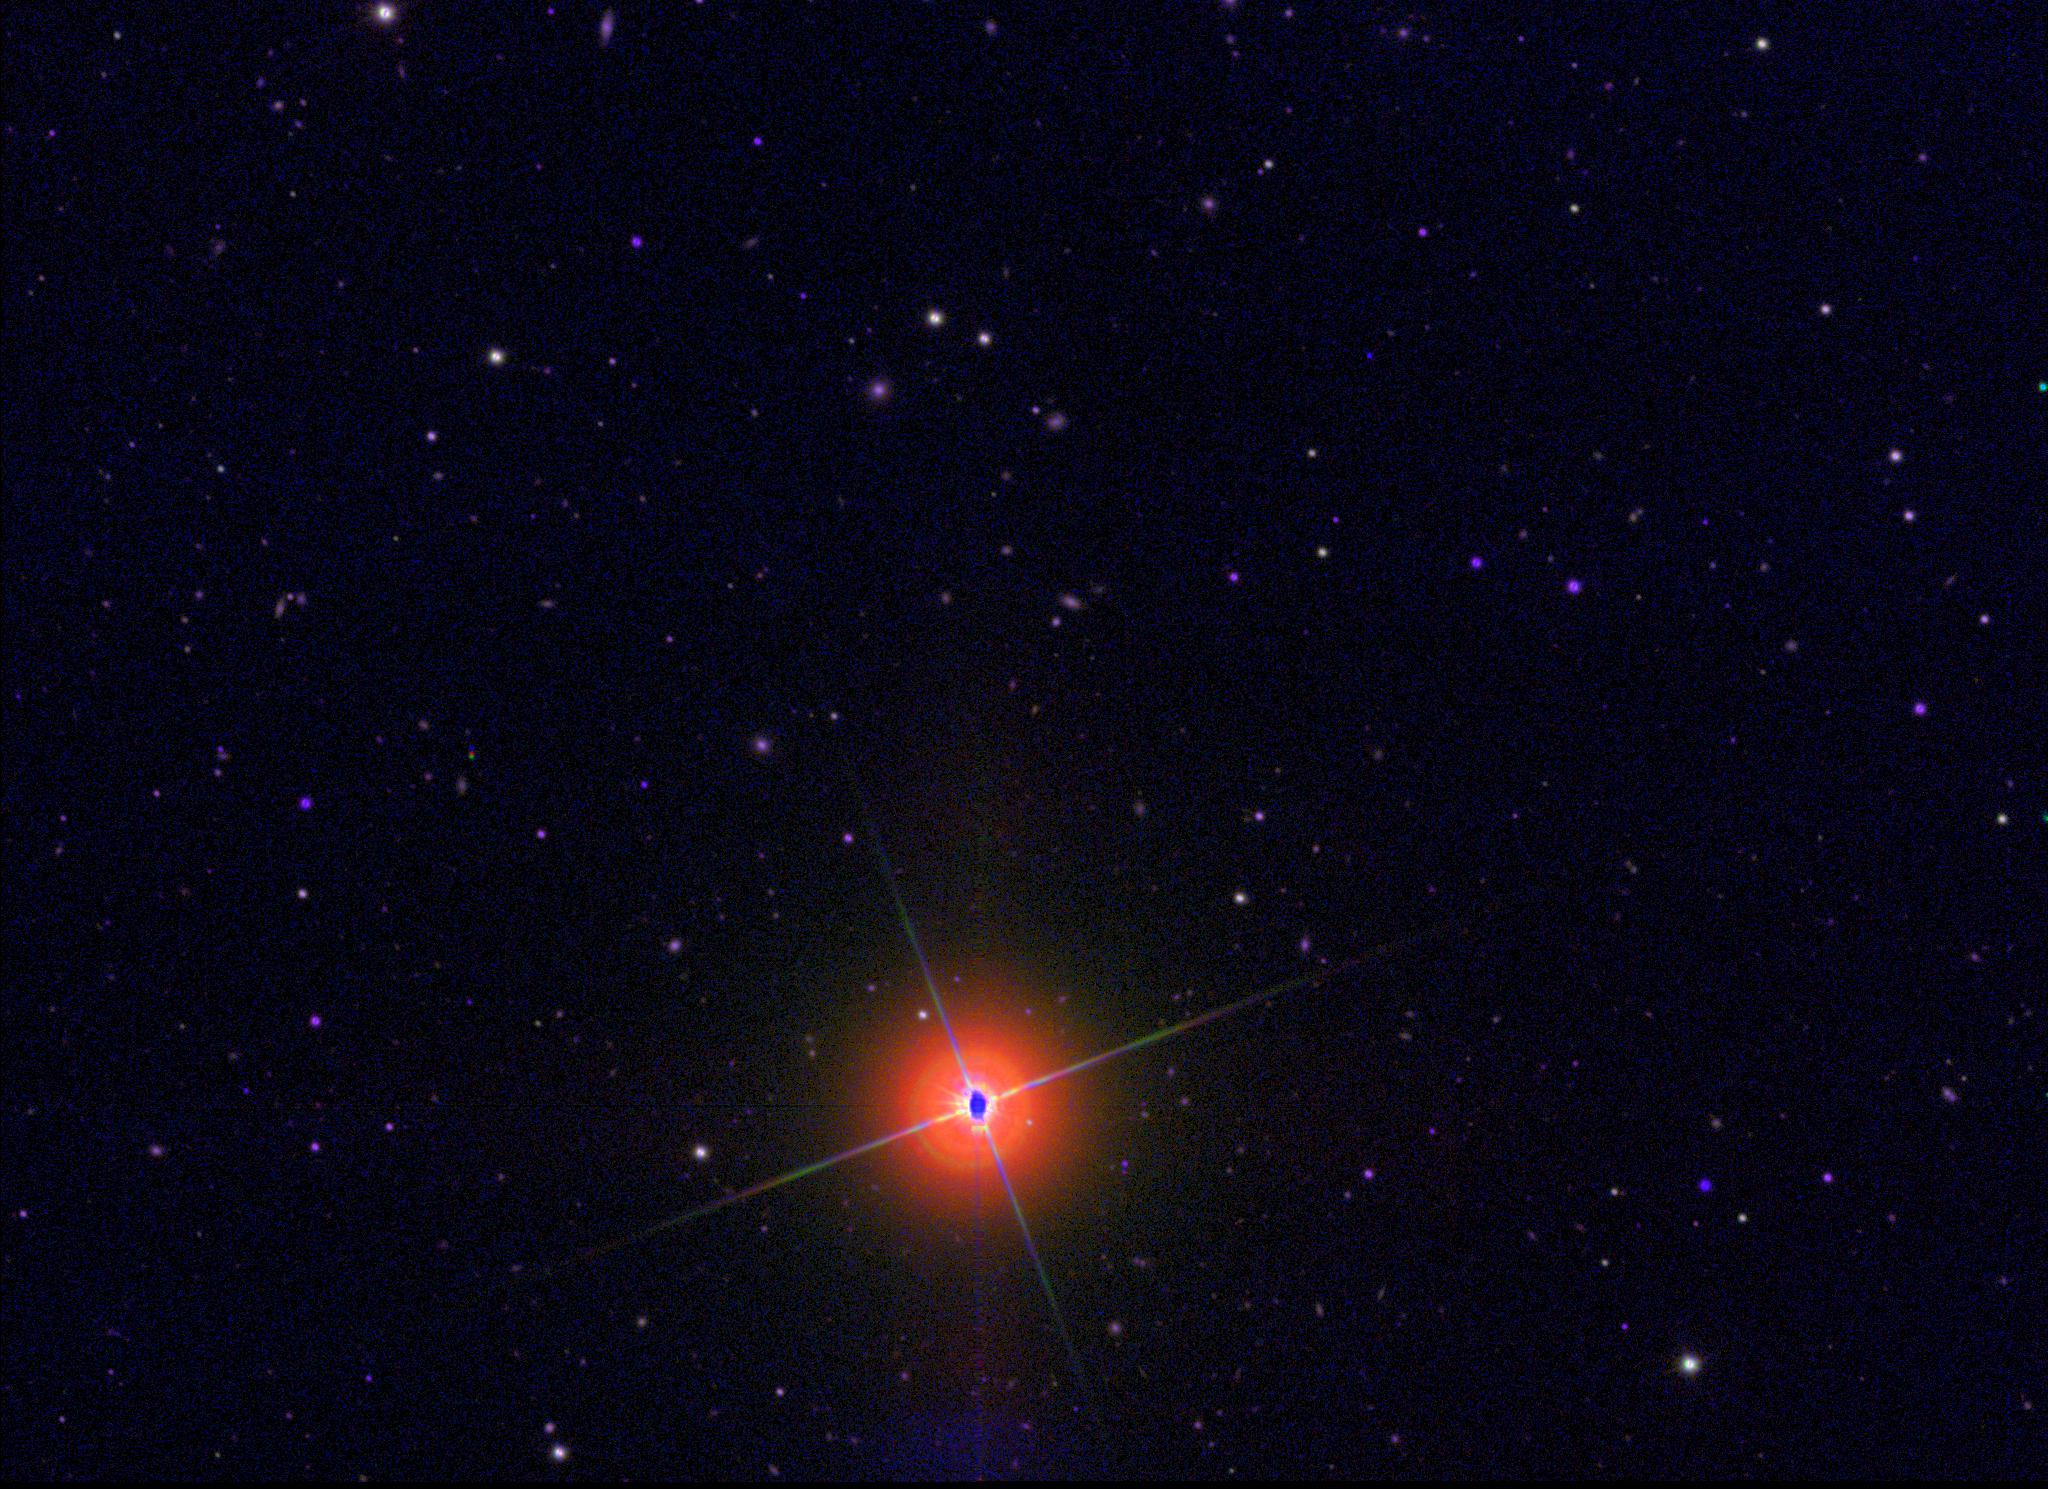L: (1364, 348, 1379, 363)
